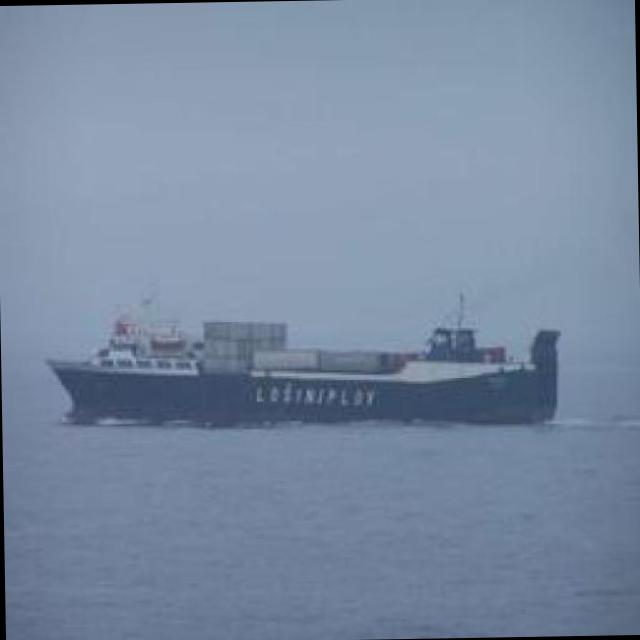boat: (25, 313, 578, 442)
